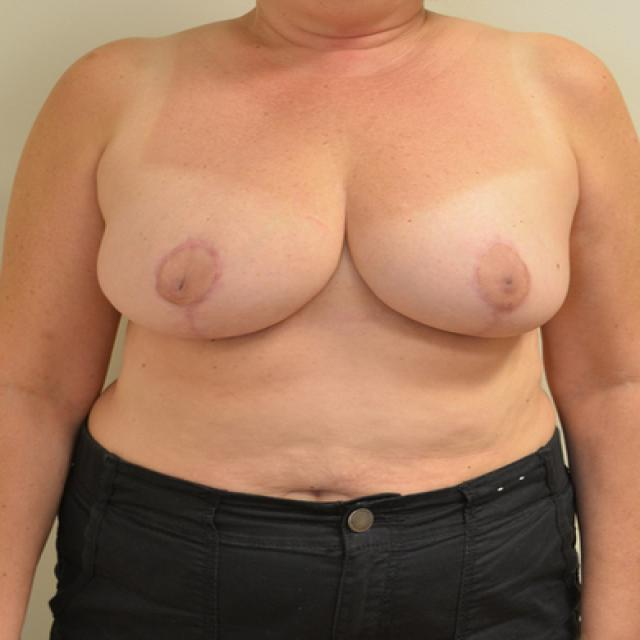Seno herido: (90, 148, 343, 352), (348, 148, 578, 351)
